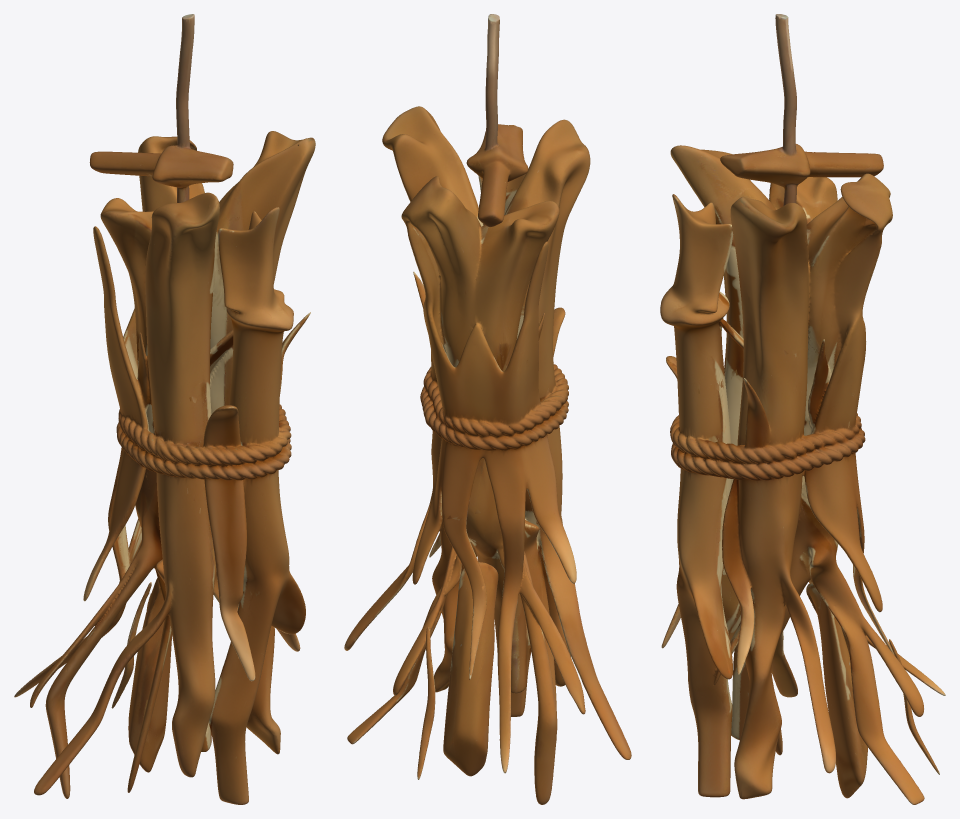
Rendered from Meshy_AI_wood_0312012841_texture.fbx.
3 renders of one model, left to right at view 1: azimuth 30°, elevation 25°; view 2: azimuth 150°, elevation 25°; view 3: azimuth 270°, elevation 25°, orthographic. The views are drawn at different scales.
Visible parts, largest first — view 1: Mesh_0; view 2: Mesh_0; view 3: Mesh_0.
Part boxes in pixels (<box>): Mesh_0: <box>14,14,315,804</box>; Mesh_0: <box>344,14,631,804</box>; Mesh_0: <box>660,14,945,804</box>.
Bounding box in the file's own units: 71.39 × 190 × 61.66.
1 material, 1 textured.
